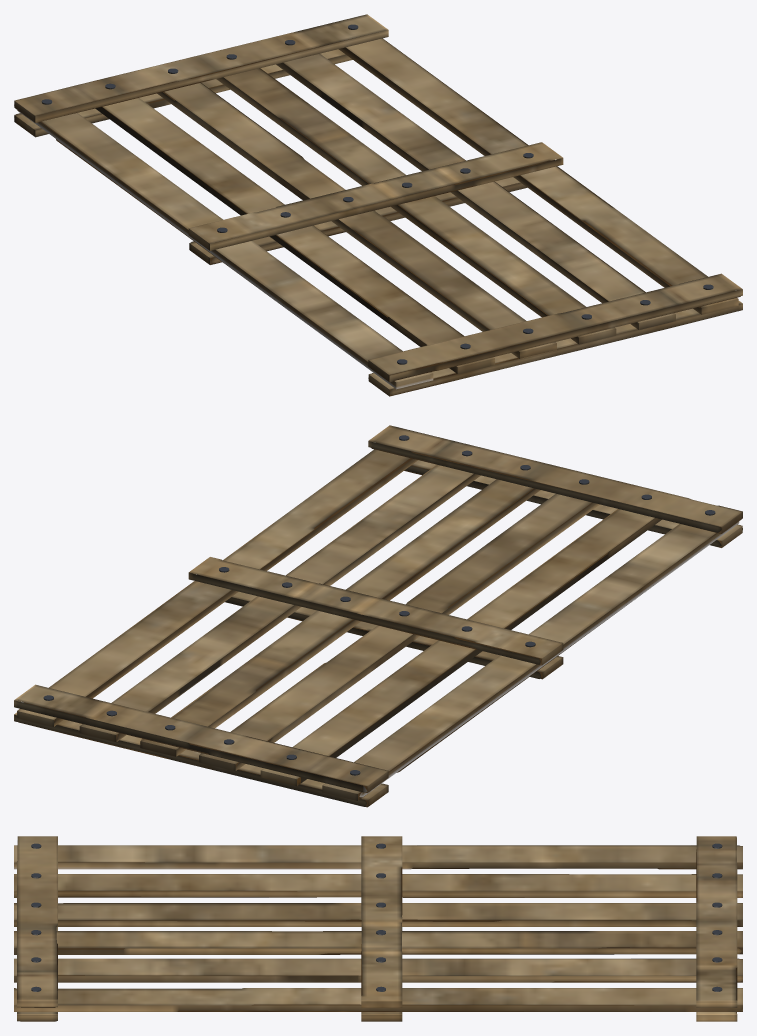
File: woodenplatformlow.fbx
3 views of the same model, one above another, from view 1: azimuth 30°, elevation 25°; view 2: azimuth 150°, elevation 25°; view 3: azimuth 270°, elevation 25° (orthographic). The views are drawn at different scales.
Parts seen in each view (by area): view 1: woodenplatformlow; view 2: woodenplatformlow; view 3: woodenplatformlow.
Part boxes in pixels (x1=…): woodenplatformlow: x1=14, y1=14, x2=742, y2=396; woodenplatformlow: x1=14, y1=425, x2=742, y2=807; woodenplatformlow: x1=14, y1=836, x2=742, y2=1021.
Size of the model in its own units: 52.92 by 3.2 by 98.66.
